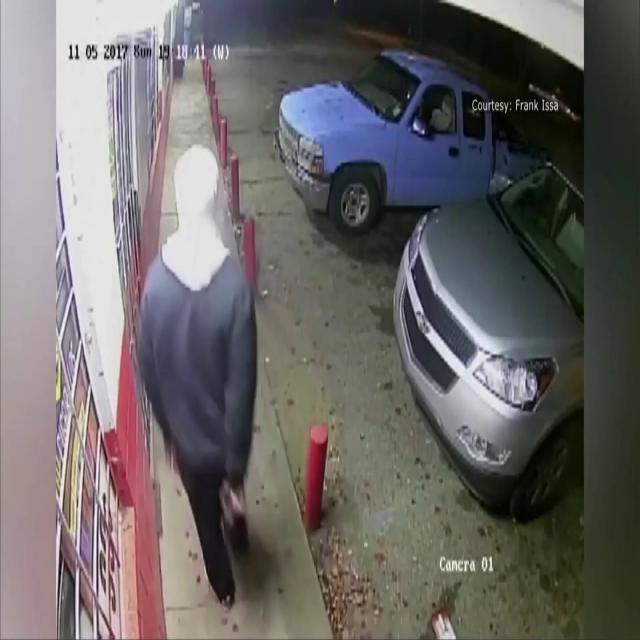weapon: (220, 476, 242, 558)
